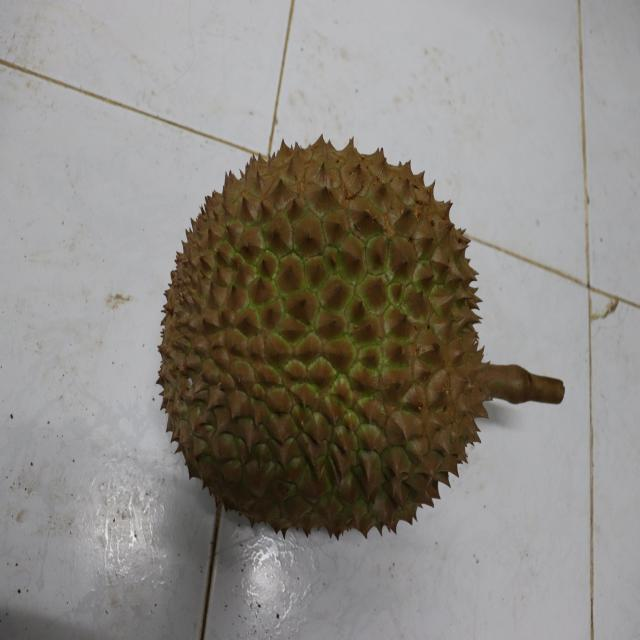mature: (152, 130, 493, 540)
